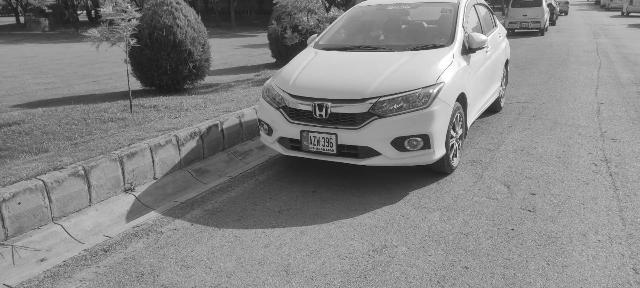Number: (309, 134, 333, 149)
